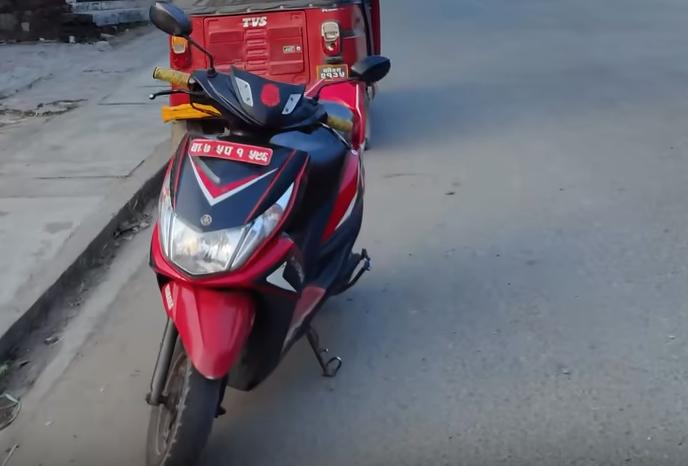scooter: (132, 0, 394, 466)
